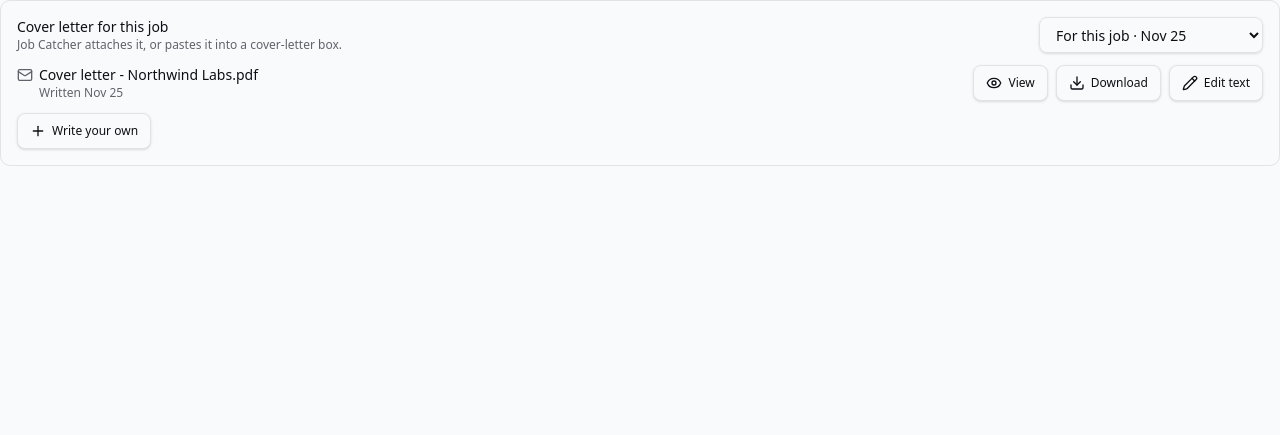
it: Cover letter for this job › says when your own letter will take the place of the job's
The width and height of the screenshot is (1280, 435).
Click the button "Write your own": (84, 131) [17, 113, 151, 149]
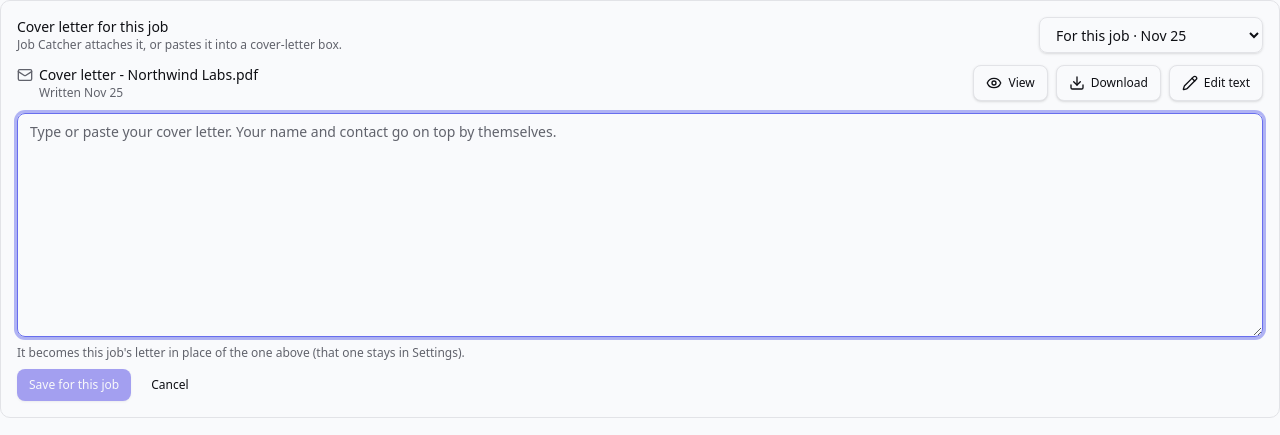
Expected: the text "in place of the one above" is shown, [17, 344, 465, 361]
